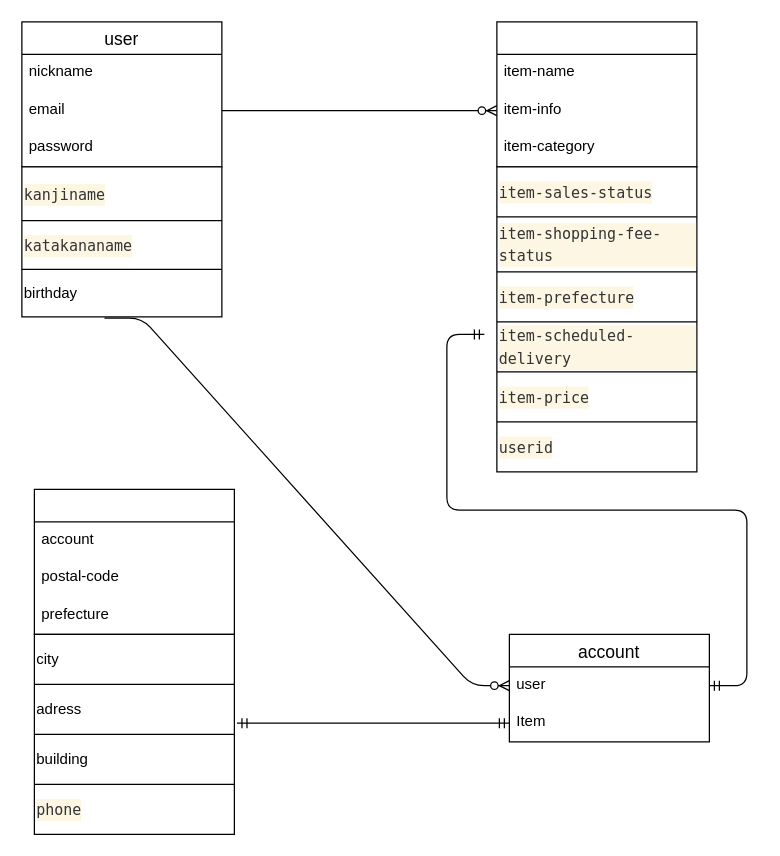
This 780x856 diagram has some shape labels left out. Here are the shapes that lost their labels. From the top down, the box of each, then its label:
(496, 21, 697, 167): items
(33, 488, 234, 634): destination
